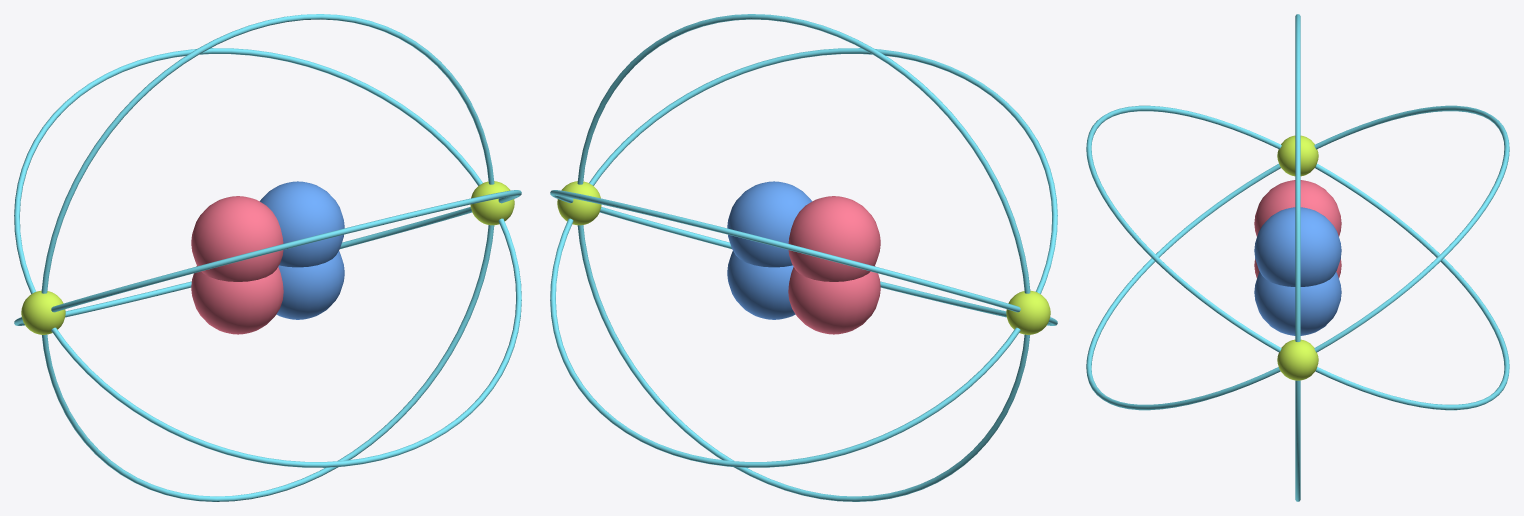
The model's file is atom.glb.
3 views of the same model, side by side, from view 1: azimuth 30°, elevation 25°; view 2: azimuth 150°, elevation 25°; view 3: azimuth 270°, elevation 25° (orthographic). The views are drawn at different scales.
Parts seen in each view (by area): view 1: schematic_orbit (×3), nucleon_2, nucleon_1, nucleon_0, nucleon_3, electron_schematic (×2); view 2: schematic_orbit (×3), nucleon_2, nucleon_1, nucleon_0, nucleon_3, electron_schematic (×2); view 3: schematic_orbit (×3), nucleon_1, nucleon_3, electron_schematic (×2), nucleon_2.
Part boxes in pixels (bbox=[...]): schematic_orbit (×3): bbox=[14, 14, 521, 501]; nucleon_2: bbox=[191, 196, 283, 281]; nucleon_1: bbox=[259, 181, 344, 267]; nucleon_0: bbox=[191, 266, 283, 334]; nucleon_3: bbox=[276, 251, 344, 319]; electron_schematic (×2): bbox=[21, 181, 514, 334]; schematic_orbit (×3): bbox=[550, 14, 1057, 501]; nucleon_2: bbox=[788, 196, 880, 281]; nucleon_1: bbox=[727, 181, 812, 267]; nucleon_0: bbox=[788, 266, 880, 334]; nucleon_3: bbox=[727, 251, 795, 319]; electron_schematic (×2): bbox=[557, 181, 1050, 334]; schematic_orbit (×3): bbox=[1086, 14, 1509, 501]; nucleon_1: bbox=[1254, 207, 1341, 286]; nucleon_3: bbox=[1254, 272, 1341, 335]; electron_schematic (×2): bbox=[1277, 135, 1318, 380]; nucleon_2: bbox=[1254, 180, 1341, 236].
Size of the model in its own units: 2.28 by 2.12 by 1.84.
